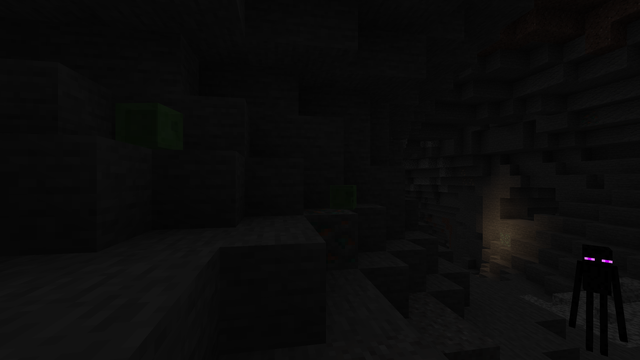endermens: (574, 241, 619, 359)
slimes: (115, 99, 181, 150), (330, 184, 357, 209)
